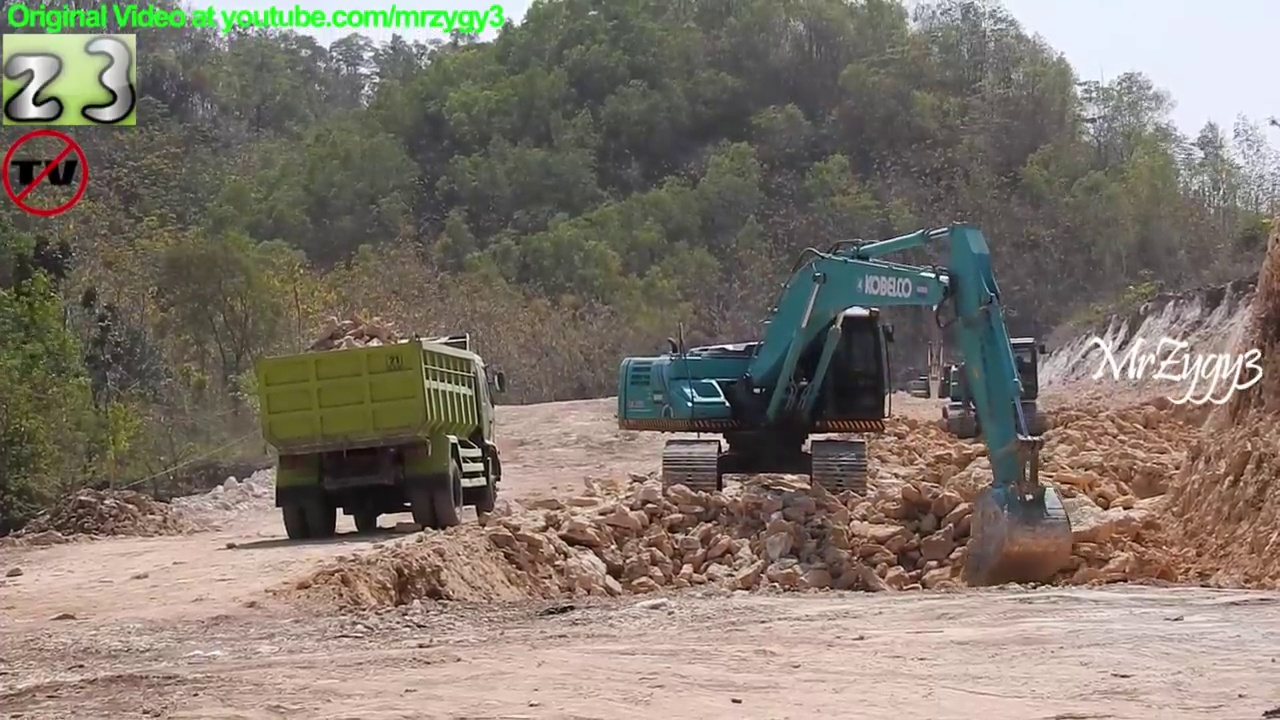excavator: (610, 216, 1082, 593), (940, 299, 1055, 458), (898, 271, 981, 409)
truck: (254, 328, 512, 548)
